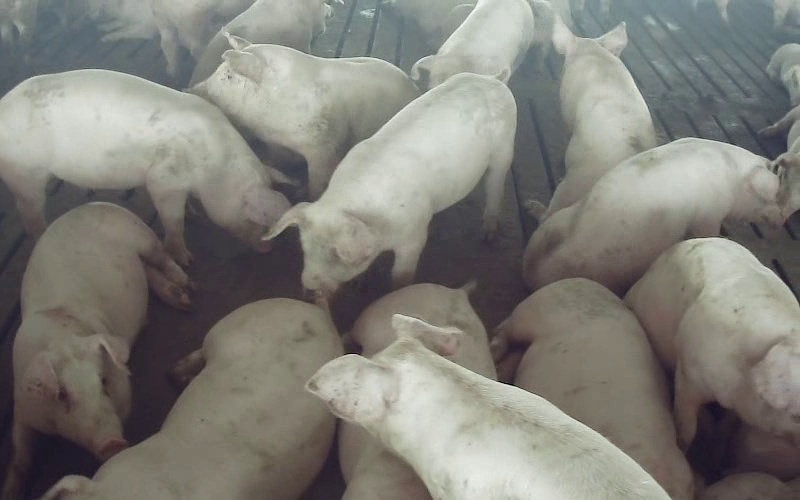pig: (44, 298, 341, 499), (267, 74, 515, 301), (3, 202, 189, 497), (491, 278, 693, 499), (524, 138, 782, 293), (190, 33, 418, 199), (624, 238, 799, 446), (525, 16, 655, 221), (190, 0, 330, 85)
